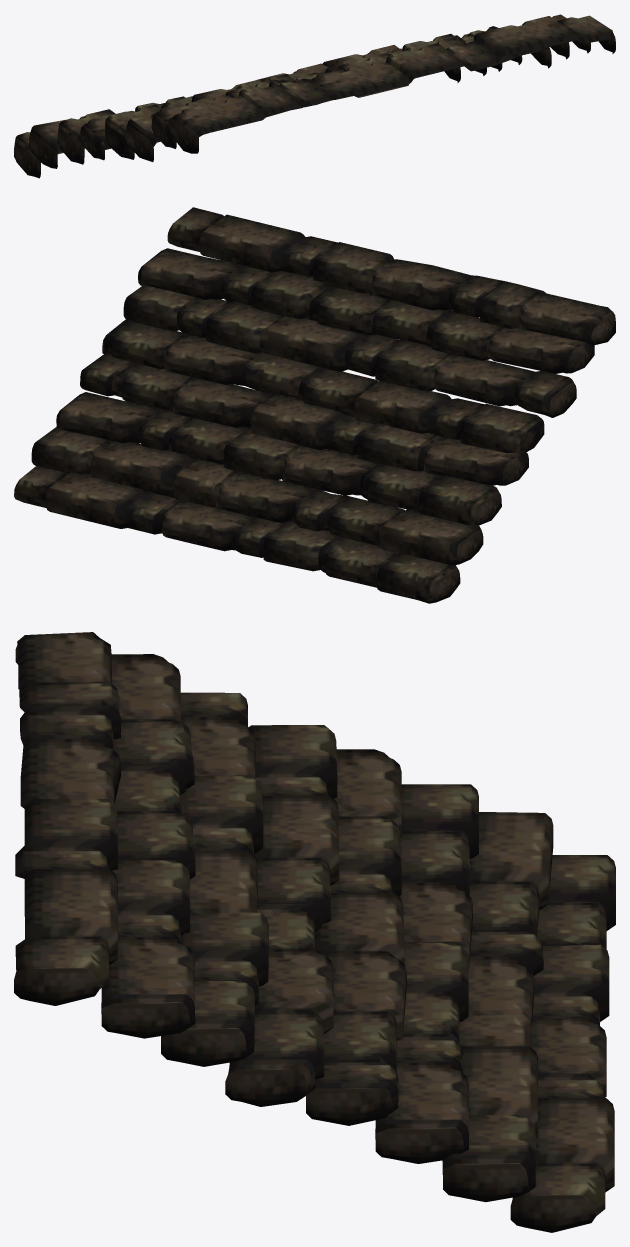
Rendered from EnvMdrMD_Mount_A_GrdWall_A_Stairs_8S7W.fbx.
3 renders of one model, top to bottom at view 1: azimuth 30°, elevation 25°; view 2: azimuth 150°, elevation 25°; view 3: azimuth 270°, elevation 25°, orthographic. The views are drawn at different scales.
Parts seen in each view (by area): view 1: EnvMdrMD_Mount_A_GrdWall_A_Stairs_8S7W; view 2: EnvMdrMD_Mount_A_GrdWall_A_Stairs_8S7W; view 3: EnvMdrMD_Mount_A_GrdWall_A_Stairs_8S7W.
Part boxes in pixels (x1=…): EnvMdrMD_Mount_A_GrdWall_A_Stairs_8S7W: x1=14, y1=14, x2=615, y2=178; EnvMdrMD_Mount_A_GrdWall_A_Stairs_8S7W: x1=14, y1=207, x2=615, y2=603; EnvMdrMD_Mount_A_GrdWall_A_Stairs_8S7W: x1=14, y1=632, x2=615, y2=1232.
Size of the model in its own units: 559 by 215 by 419.
